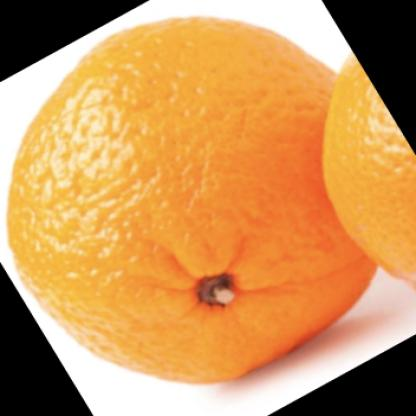fresh: (9, 16, 382, 387)
